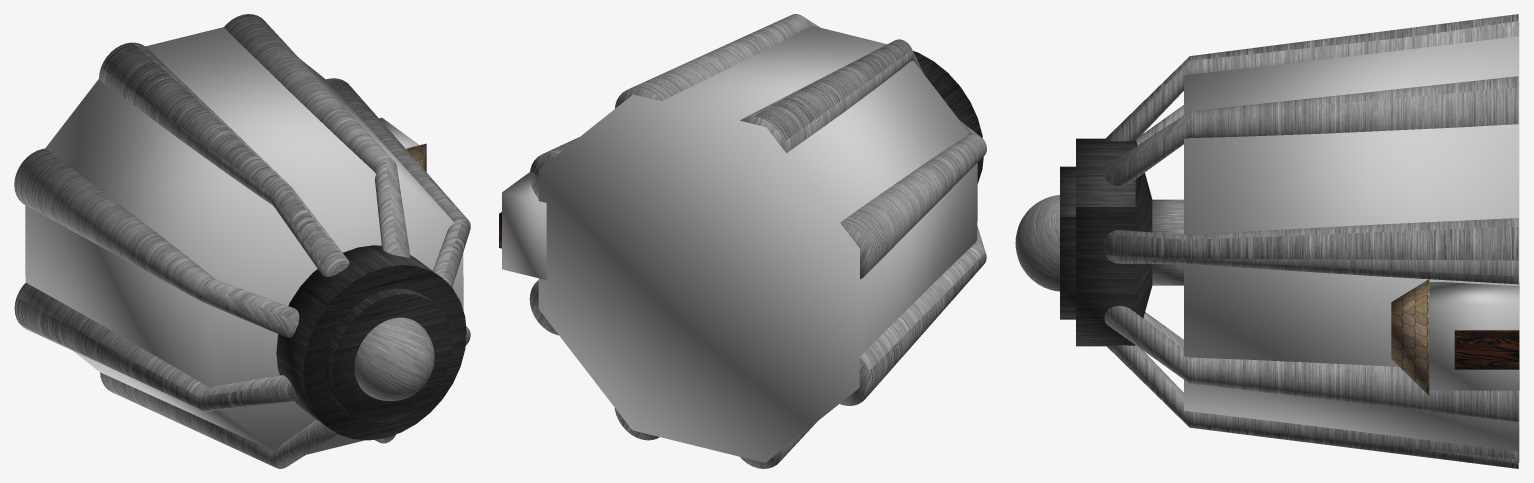
Rendered from Laser-Body.fbx.
3 renders of one model, left to right at view 1: azimuth 30°, elevation 25°; view 2: azimuth 150°, elevation 25°; view 3: azimuth 270°, elevation 25°, orthographic. The views are drawn at different scales.
Visible parts, largest first — view 1: Cylinder, Circle, Circle.001, Circle.002; view 2: Cylinder, Circle, Cube, Circle.001; view 3: Cylinder, Circle, Circle.001, Cube, Cone, Circle.002, Cube.001, Circle.003.
Boxes of the visible parts, x1=… form: Cylinder: x1=25, y1=27, x2=463, y2=454; Circle: x1=14, y1=14, x2=470, y2=468; Circle.001: x1=276, y1=245, x2=466, y2=440; Circle.002: x1=354, y1=317, x2=434, y2=401; Cylinder: x1=538, y1=26, x2=977, y2=462; Circle: x1=529, y1=14, x2=986, y2=468; Cube: x1=502, y1=172, x2=546, y2=279; Circle.001: x1=913, y1=51, x2=983, y2=183; Cylinder: x1=1184, y1=22, x2=1519, y2=462; Circle: x1=1104, y1=14, x2=1518, y2=468; Circle.001: x1=1060, y1=138, x2=1152, y2=346; Cube: x1=1429, y1=282, x2=1519, y2=390; Cone: x1=1391, y1=279, x2=1429, y2=395; Circle.002: x1=1015, y1=195, x2=1059, y2=291; Cube.001: x1=1454, y1=330, x2=1519, y2=369; Circle.003: x1=1152, y1=199, x2=1183, y2=285.
Bounding box in the file's own units: 1.94 × 1.73 × 2.05.
